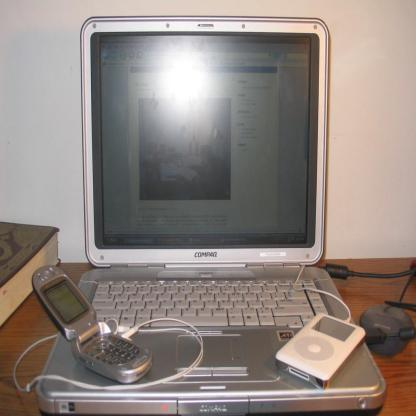board: (47, 8, 373, 403)
